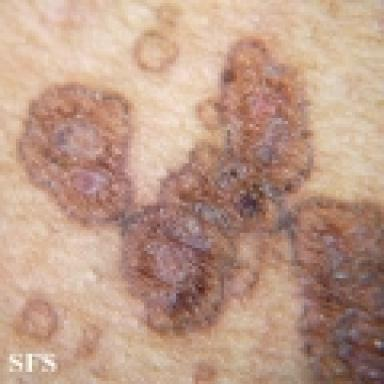Porokeratosis: (20, 22, 384, 384), (132, 31, 178, 79), (17, 297, 60, 343), (76, 324, 109, 362), (192, 364, 225, 384)
